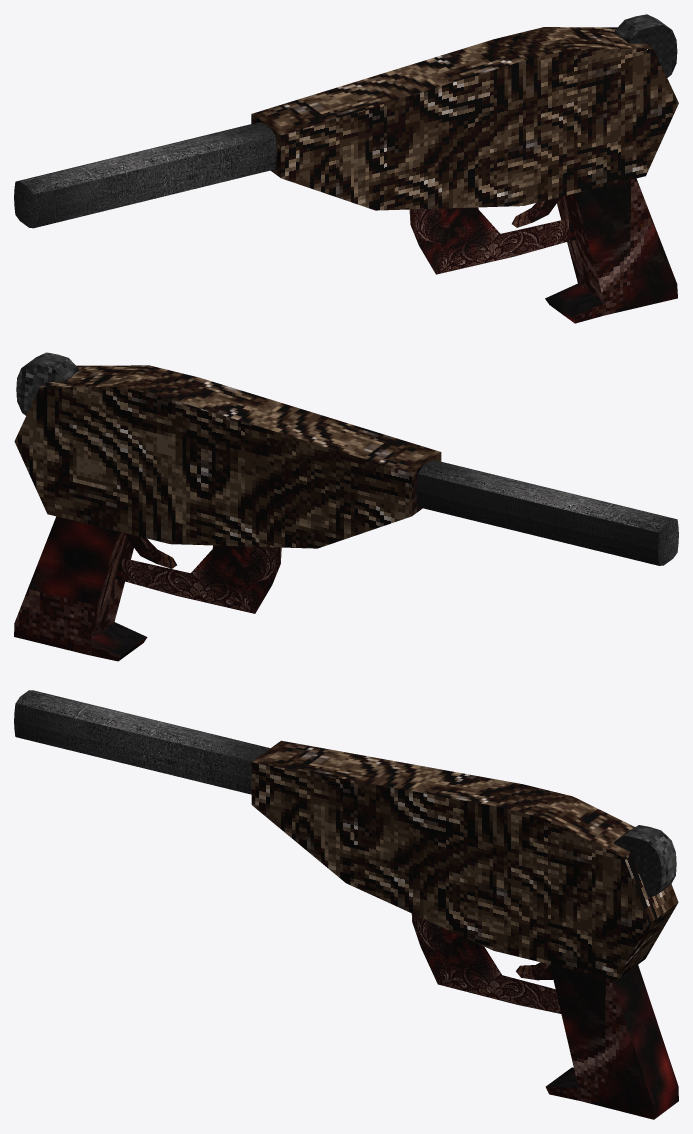
The model's file is Pistola_Gilliard.glb.
3 renders of one model, top to bottom at view 1: azimuth 30°, elevation 25°; view 2: azimuth 150°, elevation 25°; view 3: azimuth 330°, elevation 25°, orthographic.
Visible parts, largest first — view 1: Plano; view 2: Plano; view 3: Plano.
Boxes of the visible parts, x1=… form: Plano: x1=14, y1=14, x2=678, y2=323; Plano: x1=14, y1=352, x2=678, y2=661; Plano: x1=14, y1=690, x2=678, y2=1119.
Size of the model in its own units: 6.4 by 2.64 by 0.5066.
1 material, 1 textured.
